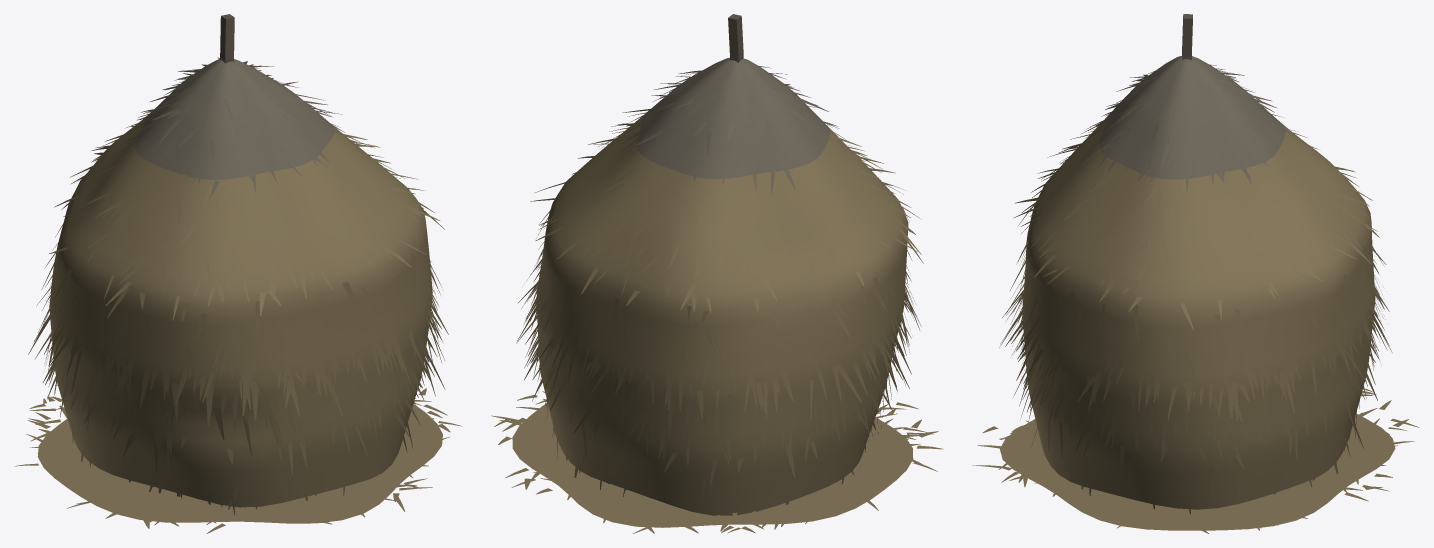
File: lees_place_haystack_1812_a__lees_place_1812.glb
3 views of the same model, side by side, from view 1: azimuth 30°, elevation 25°; view 2: azimuth 150°, elevation 25°; view 3: azimuth 270°, elevation 25° (orthographic). The views are drawn at different scales.
Parts seen in each view (by area): view 1: lees_place_haystack_1812_a__lees_place_1812; view 2: lees_place_haystack_1812_a__lees_place_1812; view 3: lees_place_haystack_1812_a__lees_place_1812.
Part boxes in pixels (bbox=[...]): lees_place_haystack_1812_a__lees_place_1812: bbox=[14, 14, 462, 533]; lees_place_haystack_1812_a__lees_place_1812: bbox=[491, 14, 943, 533]; lees_place_haystack_1812_a__lees_place_1812: bbox=[972, 14, 1419, 533].
Size of the model in its own units: 4.61 by 5.04 by 4.68.
